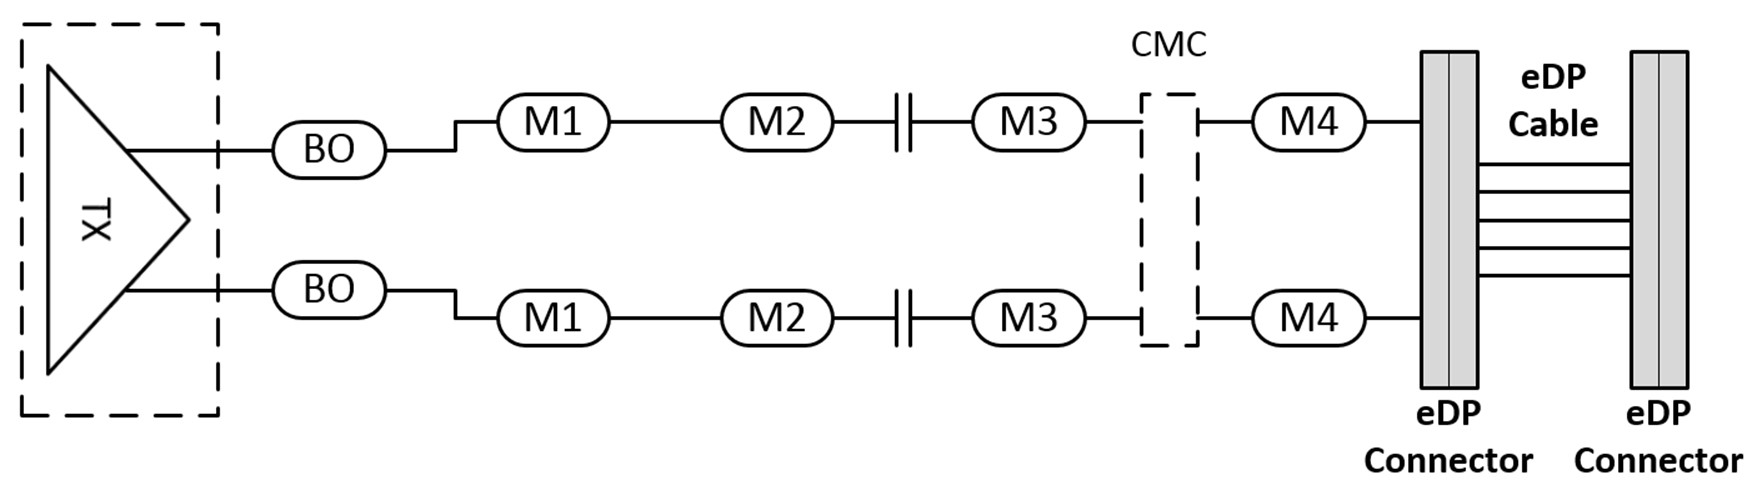capacitor: (882, 80, 925, 165), (892, 279, 920, 356)
dotted_rectangle: (11, 17, 223, 425), (1135, 91, 1202, 356)
oval: (494, 88, 615, 153), (272, 258, 388, 324), (973, 91, 1088, 156), (491, 291, 613, 350), (721, 93, 835, 156), (1253, 288, 1371, 349), (269, 121, 392, 179), (1253, 93, 1367, 151), (723, 288, 832, 349), (974, 291, 1086, 348)
rectangle: (1419, 44, 1479, 391), (1632, 48, 1692, 391)
triangle: (46, 58, 194, 370)
